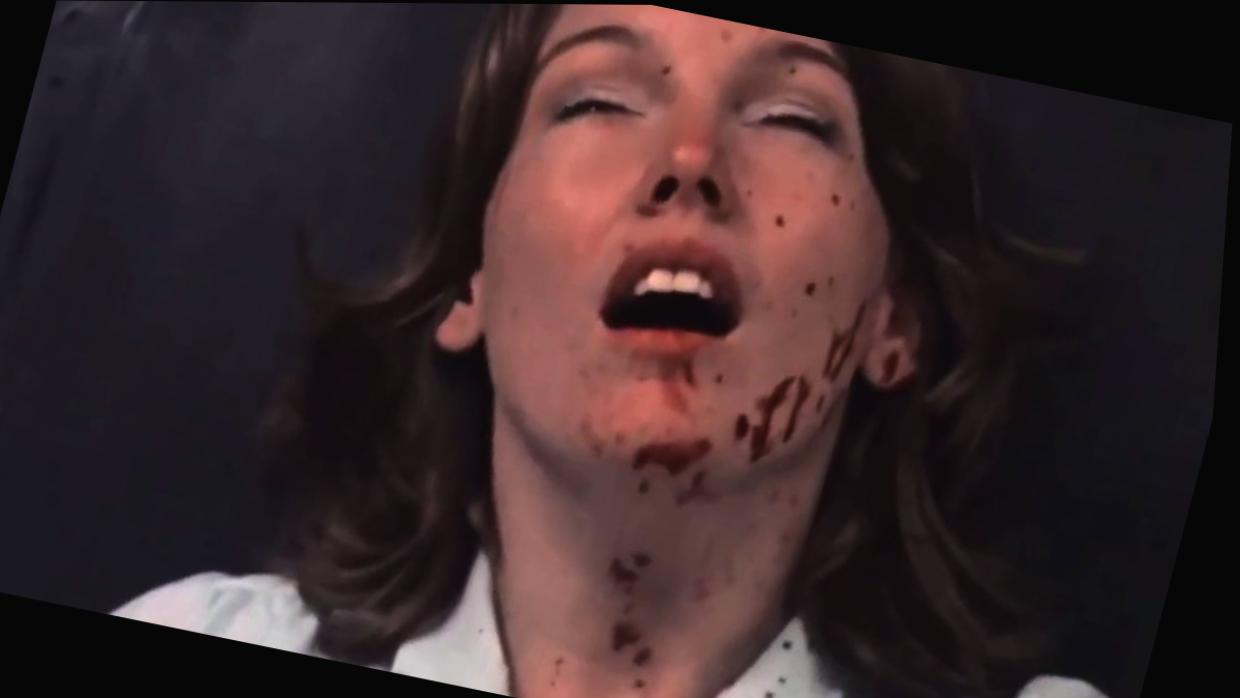Fire: (455, 3, 920, 698)
